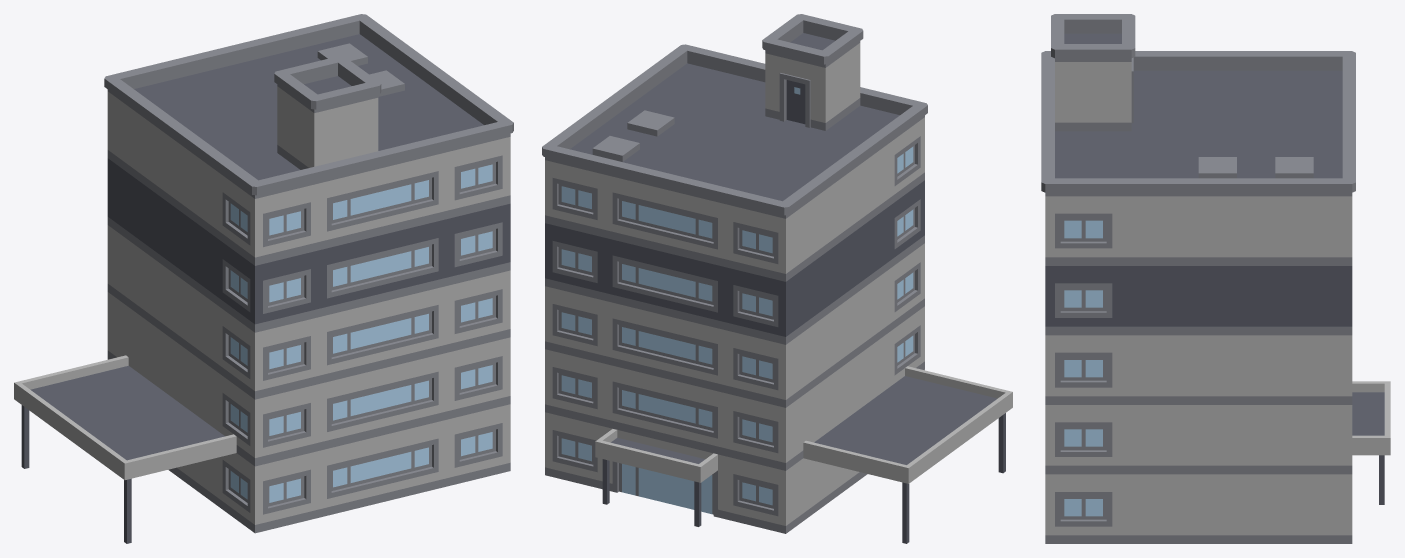
The model's file is large_buildingG.002.obj.
The picture shows the model from 3 angles, left to right: view 1: azimuth 30°, elevation 25°; view 2: azimuth 150°, elevation 25°; view 3: azimuth 270°, elevation 25°; orthographic projection. The views are drawn at different scales.
Parts seen in each view (by area): view 1: large_buildingG; view 2: large_buildingG; view 3: large_buildingG.
Part boxes in pixels (<box>): large_buildingG: <box>14,14,513,543</box>; large_buildingG: <box>542,14,1012,543</box>; large_buildingG: <box>1041,14,1390,543</box>.
Size of the model in its own units: 34.16 by 36.52 by 26.8.
